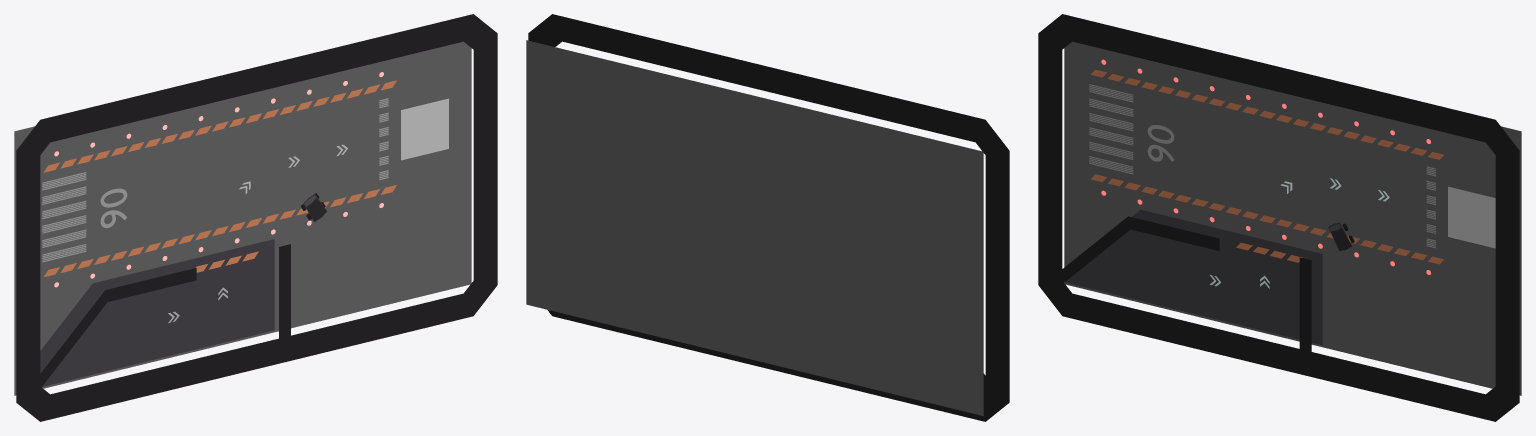
Rendered from Local.glb.
3 renders of one model, left to right at view 1: azimuth 30°, elevation 25°; view 2: azimuth 150°, elevation 25°; view 3: azimuth 330°, elevation 25°, orthographic.
Parts seen in each view (by area): view 1: Floor, DockingFloor, Border.035, Border.037, Border.036, Border.038, MatchmakePortal, TrackLeft, DockingBlocker.001, WarningBar, WarningBar.002, DockingBlocker (+2 smaller); view 2: Floor, Border.035, Border.038, Border.037, Border.036; view 3: Floor, DockingFloor, Border.035, Border.037, Border.038, Border.036, MatchmakePortal, TrackLeft, DockingBlocker.001, WarningBar, WarningBar.002, DockingBlocker (+2 smaller).
Part boxes in pixels (box(x1,y1,x2,y2)): Floor: box(14, 41, 471, 395); DockingFloor: box(40, 239, 274, 386); Border.035: box(16, 14, 473, 155); Border.037: box(40, 280, 497, 421); Border.036: box(463, 14, 497, 284); Border.038: box(16, 151, 49, 421); MatchmakePortal: box(401, 98, 448, 160); TrackLeft: box(42, 172, 86, 262); DockingBlocker.001: box(40, 268, 196, 386); WarningBar: box(43, 80, 396, 172); WarningBar.002: box(44, 185, 396, 276); DockingBlocker: box(279, 244, 290, 348); Floor: box(526, 40, 983, 415); Border.035: box(552, 14, 1009, 155); Border.038: box(983, 151, 1009, 421); Border.037: box(547, 310, 985, 421); Border.036: box(528, 14, 561, 46); Floor: box(1064, 41, 1521, 395); DockingFloor: box(1065, 209, 1322, 345); Border.035: box(1038, 14, 1495, 142); Border.037: box(1062, 293, 1519, 421); Border.038: box(1038, 33, 1072, 315); Border.036: box(1486, 120, 1519, 402); MatchmakePortal: box(1448, 186, 1495, 248); TrackLeft: box(1089, 84, 1133, 174); DockingBlocker.001: box(1062, 216, 1219, 282); WarningBar: box(1091, 69, 1443, 159); WarningBar.002: box(1091, 174, 1443, 264); DockingBlocker: box(1299, 257, 1311, 362).
Size of the model in its own units: 2000 by 1200 by 105.
